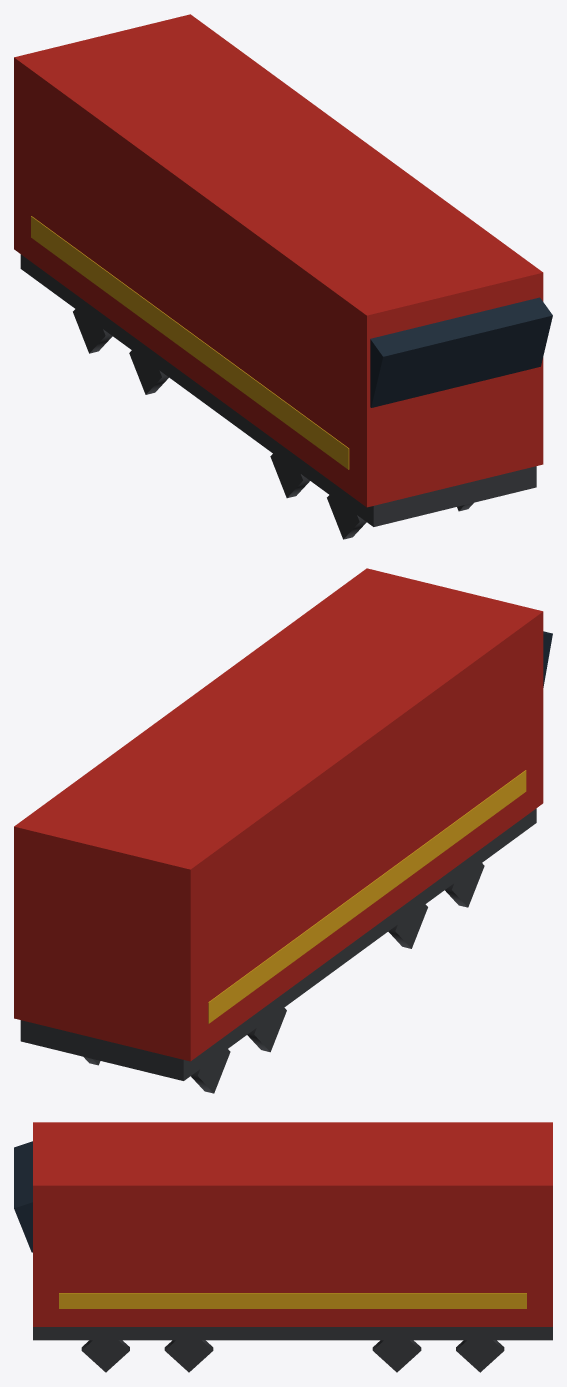
Rendered from veh_ground_locomotive_a07_lod2.glb.
The picture shows the model from 3 angles, top to bottom: view 1: azimuth 30°, elevation 25°; view 2: azimuth 150°, elevation 25°; view 3: azimuth 270°, elevation 25°; orthographic projection. The views are drawn at different scales.
Visible parts, largest first — view 1: body, wheel_0, wheel_2, wheel_4, wheel_6; view 2: body, wheel_0, wheel_2, wheel_6, wheel_4; view 3: body, wheel_3, wheel_5, wheel_7, wheel_1.
Boxes of the visible parts, x1,y1,x2,y2 form: body: (14,14,552,526); wheel_0: (73,309,112,353); wheel_2: (129,350,168,394); wheel_4: (270,454,309,498); wheel_6: (327,495,366,539); body: (14,568,552,1080); wheel_0: (191,1049,230,1093); wheel_2: (247,1007,286,1052); wheel_6: (445,863,484,907); wheel_4: (388,904,427,948); body: (14,1122,552,1340); wheel_3: (372,1340,421,1372); wheel_5: (164,1340,213,1372); wheel_7: (81,1340,129,1372); wheel_1: (456,1340,504,1372).
Size of the model in its own units: 2.62 by 3.75 by 9.33.
